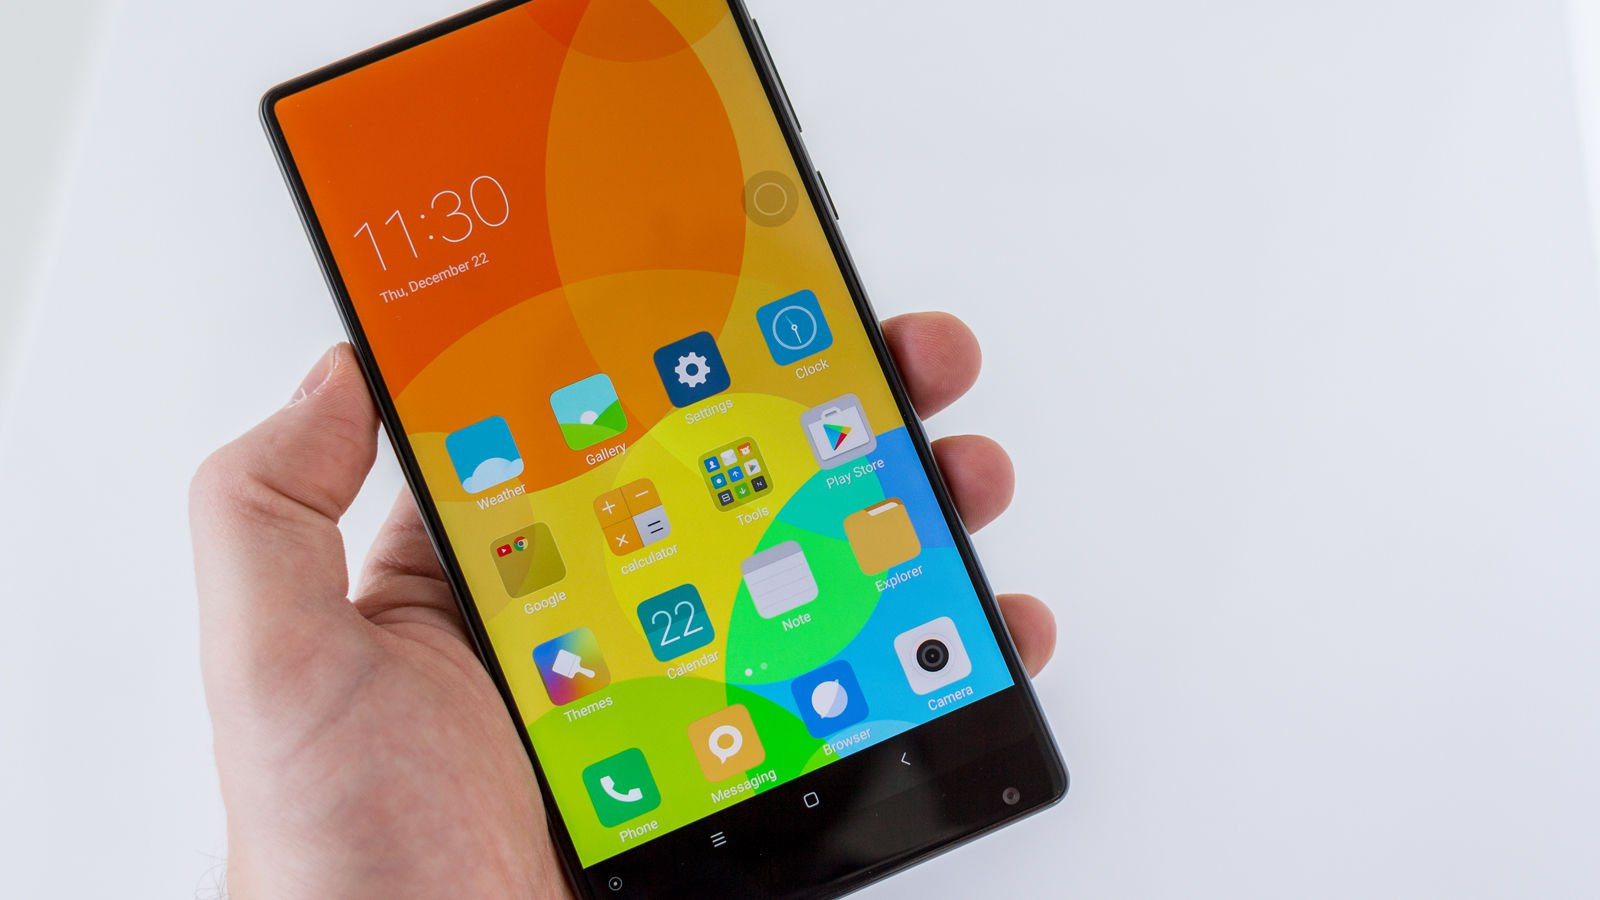smartphone: (258, 1, 1069, 900)
